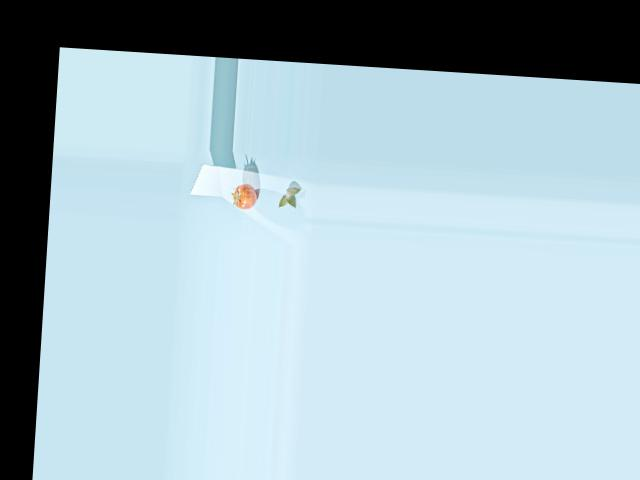tomato: (231, 182, 257, 210)
